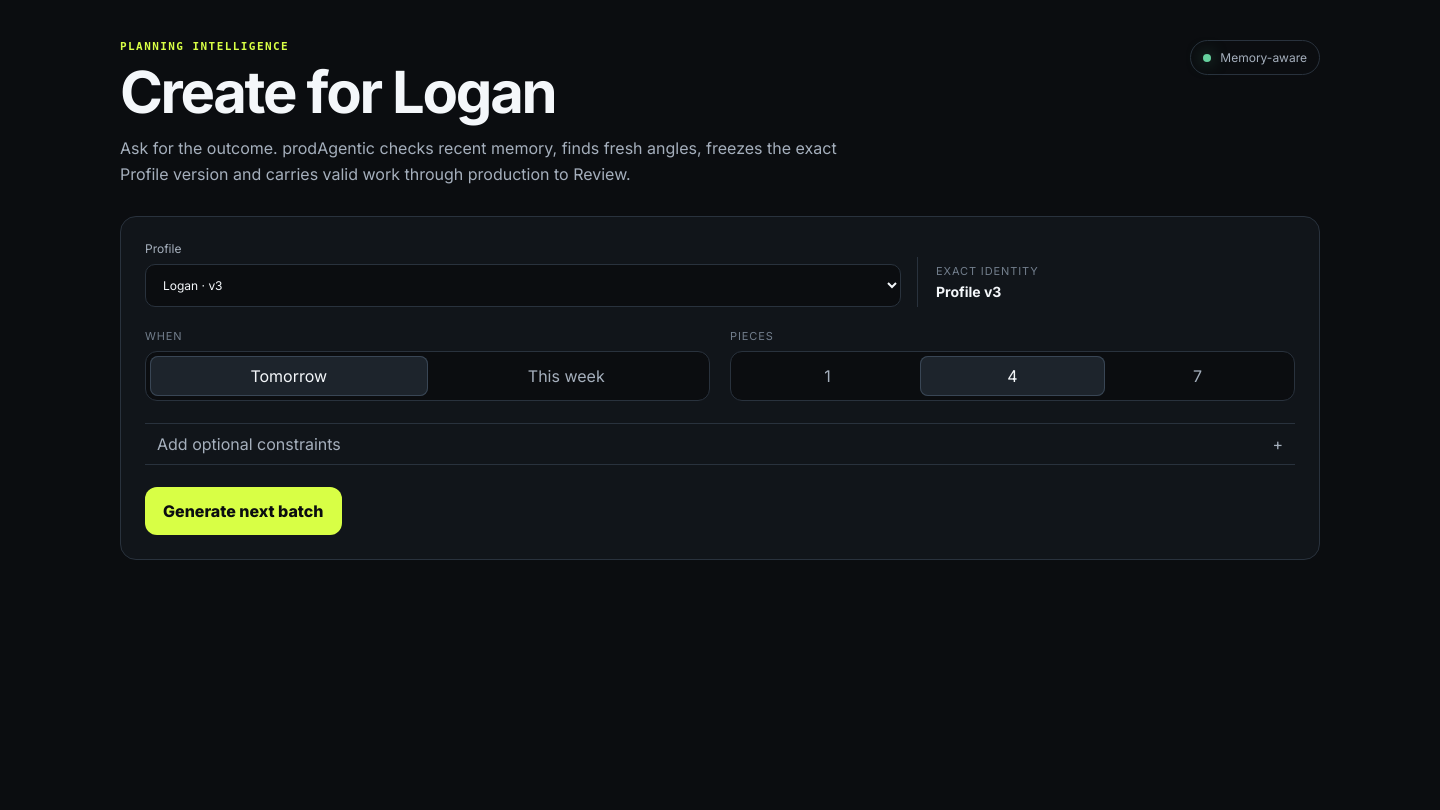
Test: keeps RETRY_PRODUCTION as an explicit per-piece action
Check: the heading "Create for Logan" is shown, box [120,57,555,127]
What coordinates should you click on to do the following:
click the button "Generate next batch"
I would click on:
 (243, 510)
Its box is [145,486,342,534].
(page scrolled)
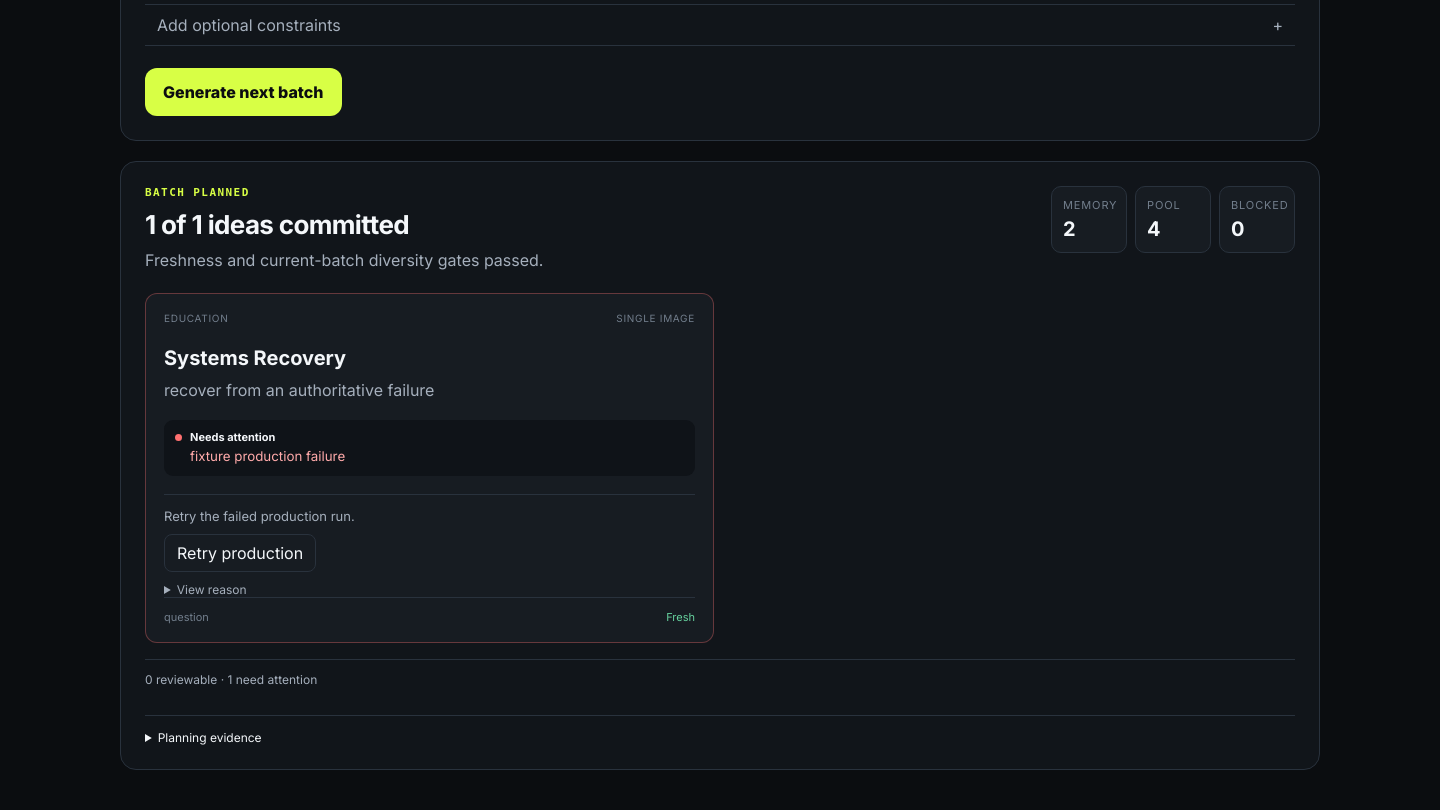
What coordinates should you click on to do the following:
click the button "Retry production"
I would click on:
 (240, 554)
Its box is [164,534,316,572].
(page scrolled)
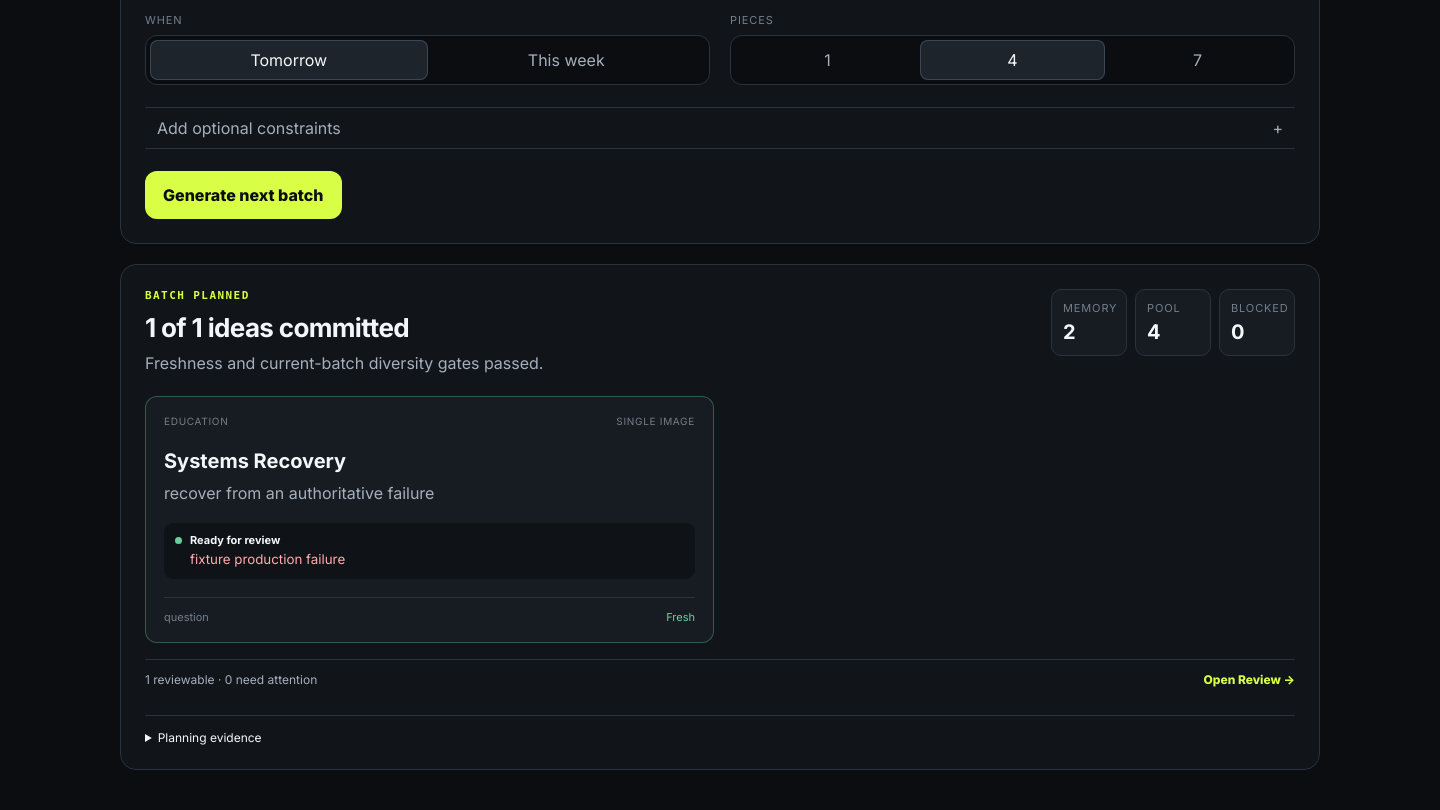
Check: the text "Ready for review" is shown, box [190,533,280,547]
